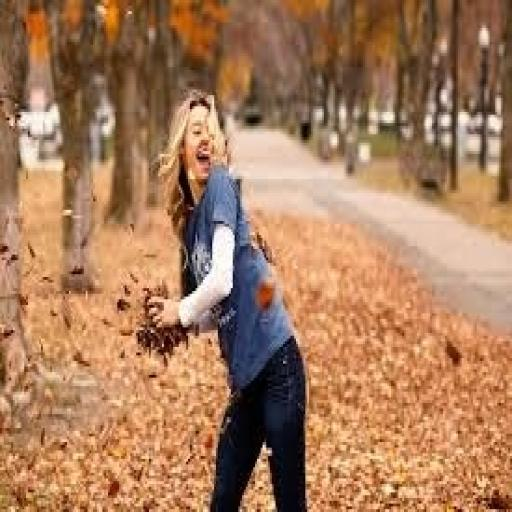laughing: (136, 78, 316, 506)
